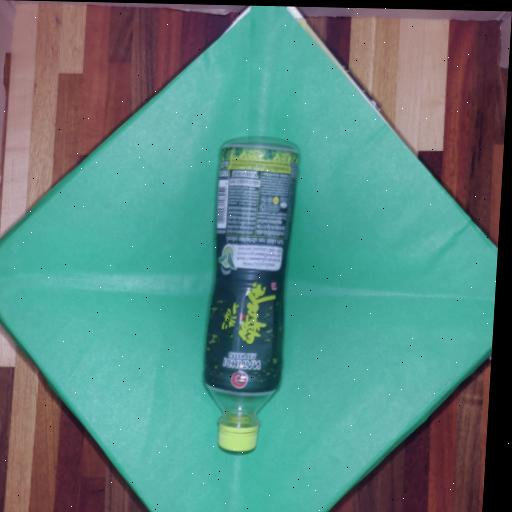bottle: (204, 142, 297, 451)
